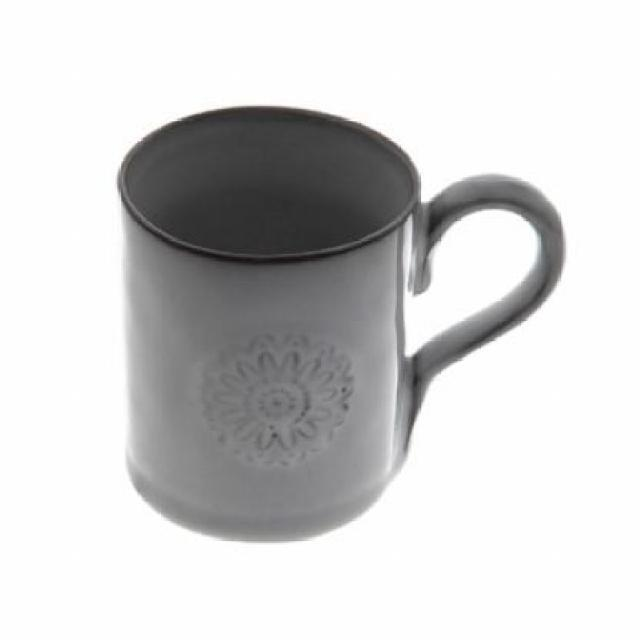taza: (117, 104, 566, 544)
